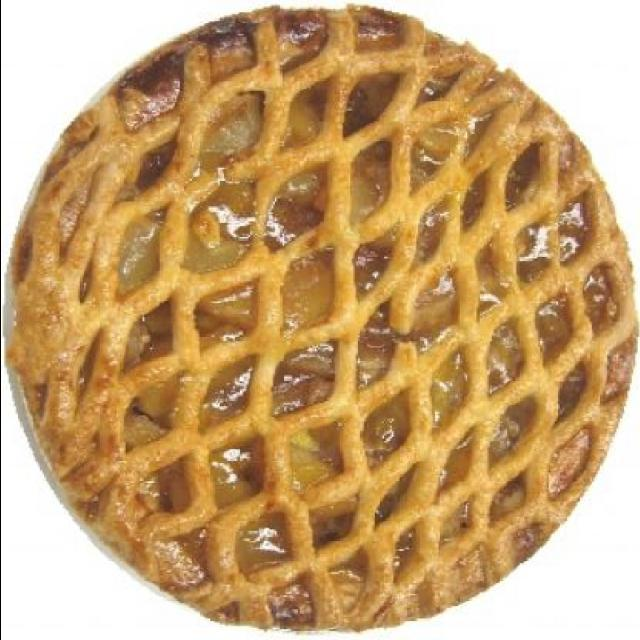Apple: (11, 12, 638, 638)
